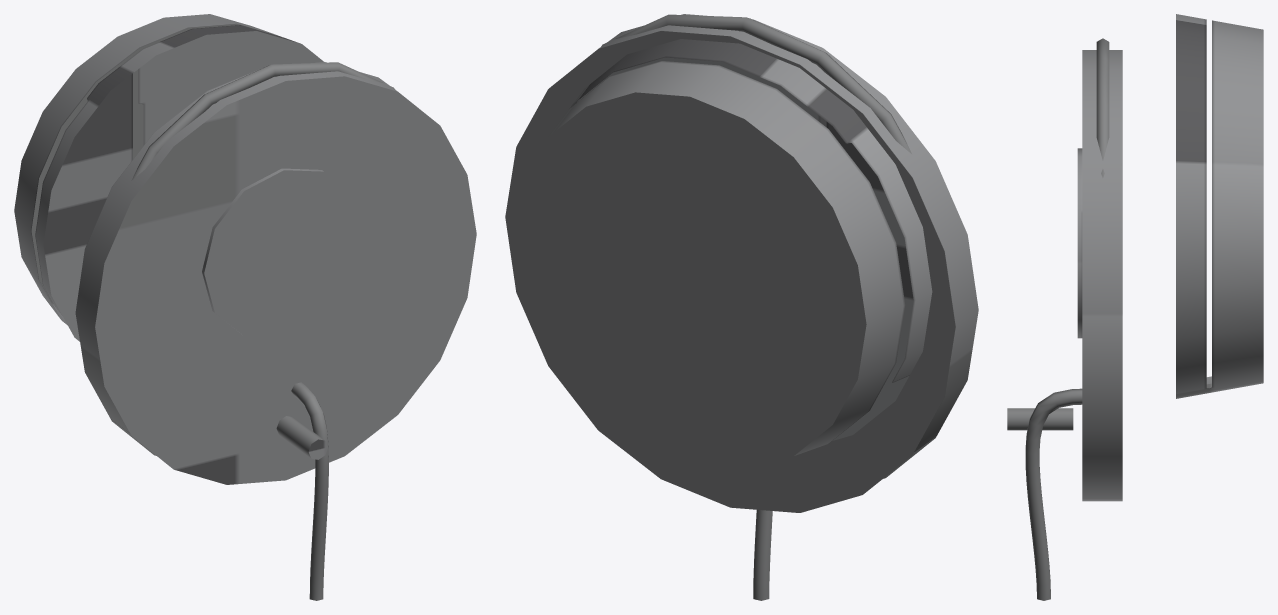
3 views of the same model, side by side, from view 1: azimuth 30°, elevation 25°; view 2: azimuth 150°, elevation 25°; view 3: azimuth 270°, elevation 25° (orthographic). The views are drawn at different scales.
Size of the model in its own units: 0.5796 by 0.7528 by 0.322.
